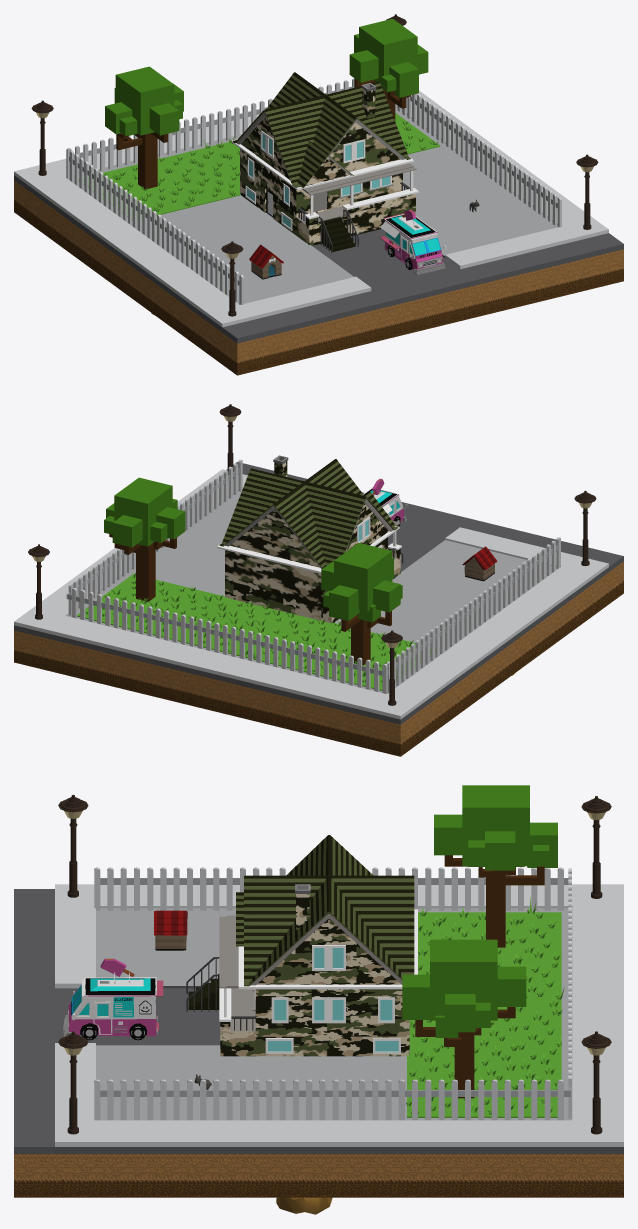
The picture shows the model from 3 angles, top to bottom: view 1: azimuth 30°, elevation 25°; view 2: azimuth 150°, elevation 25°; view 3: azimuth 270°, elevation 25°; orthographic projection. The views are drawn at different scales.
Parts seen in each view (by area): view 1: Cube.004, Cube.001, VEHICLES_ICE_CREAM_TRUCK, OBJRANDOM_DOGHOUSE; view 2: Cube.004, Cube.001, VEHICLES_ICE_CREAM_TRUCK, OBJRANDOM_DOGHOUSE; view 3: Cube.004, Cube.001, VEHICLES_ICE_CREAM_TRUCK, OBJRANDOM_DOGHOUSE, UNDERGROUND_T_REX_BONES.
Part boxes in pixels (x1=…): Cube.004: x1=14, y1=14, x2=623, y2=375; Cube.001: x1=231, y1=72, x2=418, y2=252; VEHICLES_ICE_CREAM_TRUCK: x1=379, y1=209, x2=446, y2=275; OBJRANDOM_DOGHOUSE: x1=249, y1=244, x2=283, y2=279; Cube.004: x1=14, y1=404, x2=623, y2=756; Cube.001: x1=217, y1=455, x2=403, y2=623; VEHICLES_ICE_CREAM_TRUCK: x1=363, y1=478, x2=407, y2=526; OBJRANDOM_DOGHOUSE: x1=462, y1=546, x2=497, y2=581; Cube.004: x1=14, y1=785, x2=623, y2=1197; Cube.001: x1=186, y1=835, x2=417, y2=1056; VEHICLES_ICE_CREAM_TRUCK: x1=63, y1=958, x2=163, y2=1040; OBJRANDOM_DOGHOUSE: x1=154, y1=910, x2=187, y2=950; UNDERGROUND_T_REX_BONES: x1=276, y1=1197, x2=332, y2=1214.
Bounding box in the file's own units: 4000 × 1717 × 4000.
Materials: 46 (5 with a texture image).
